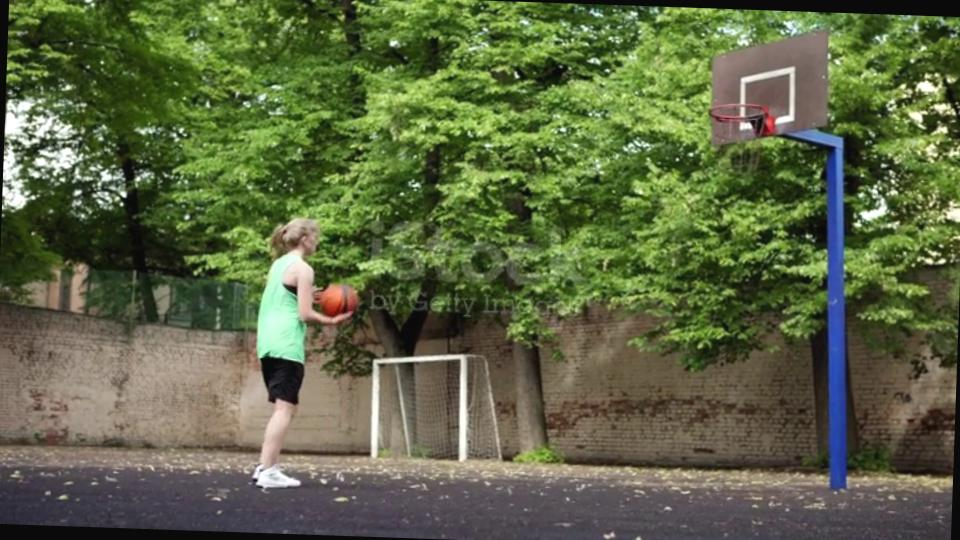hoop: (708, 102, 778, 130)
